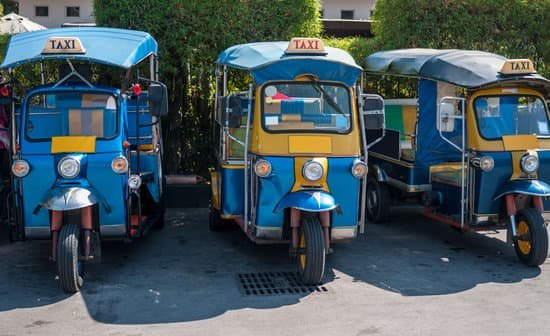threewheel: (1, 26, 169, 293), (208, 38, 386, 285), (361, 47, 550, 267)
